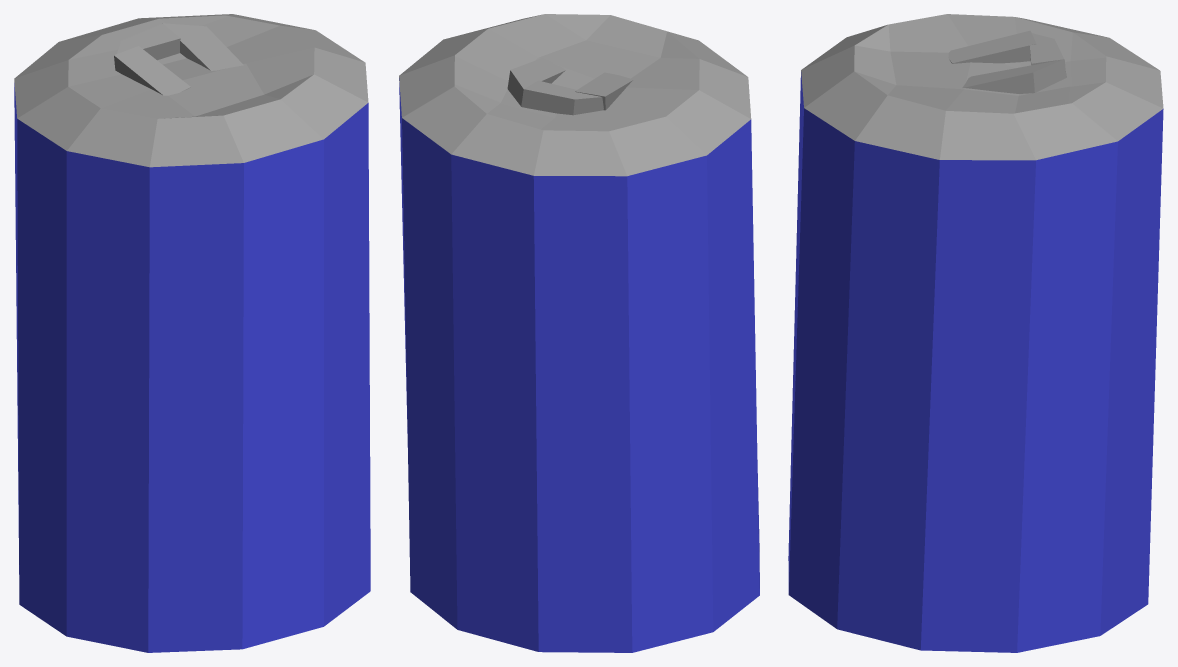
File: canOfcola2.fbx
The picture shows the model from 3 angles, left to right: view 1: azimuth 30°, elevation 25°; view 2: azimuth 150°, elevation 25°; view 3: azimuth 270°, elevation 25°; orthographic projection. The views are drawn at different scales.
Parts seen in each view (by area): view 1: group688375807; view 2: group688375807; view 3: group688375807.
Part boxes in pixels (left/top/right/bottom): group688375807: left=14, top=14, right=370, bottom=652; group688375807: left=399, top=14, right=759, bottom=652; group688375807: left=788, top=14, right=1163, bottom=652.
Bounding box in the file's own units: 148 × 241 × 152.
